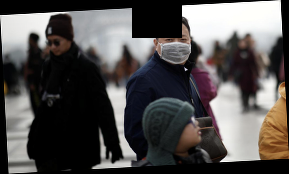with_mask: (158, 33, 194, 65)
without_mask: (182, 116, 203, 148), (45, 35, 69, 57)
